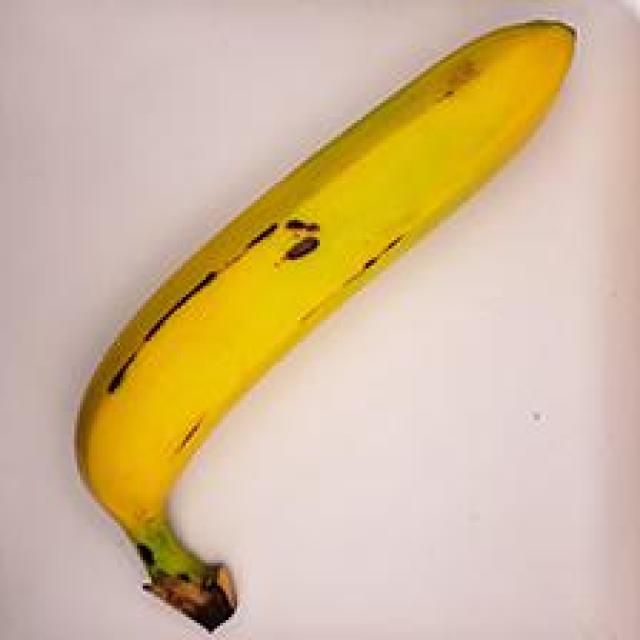ripe: (31, 0, 586, 640)
